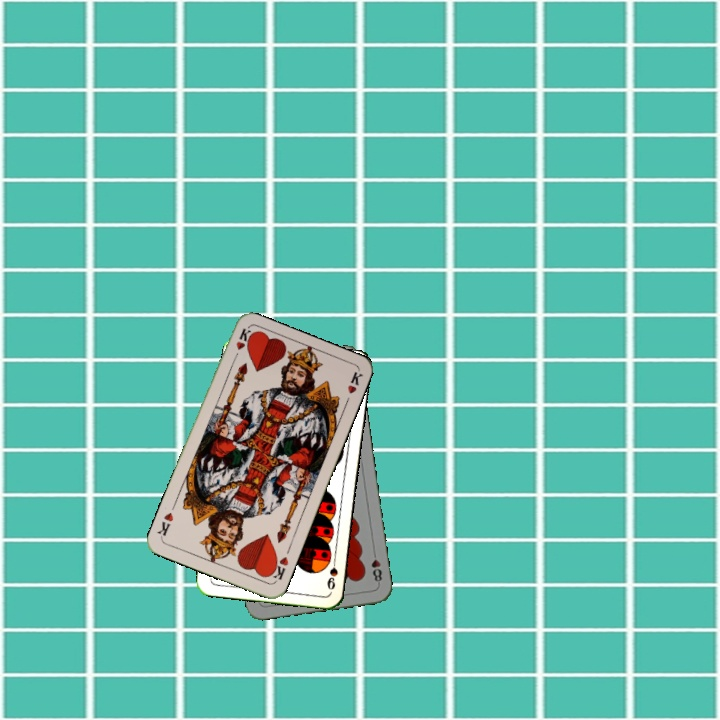H8: (367, 546, 384, 587)
HK: (229, 325, 253, 364), (265, 553, 291, 584)
S9: (323, 553, 340, 593)
